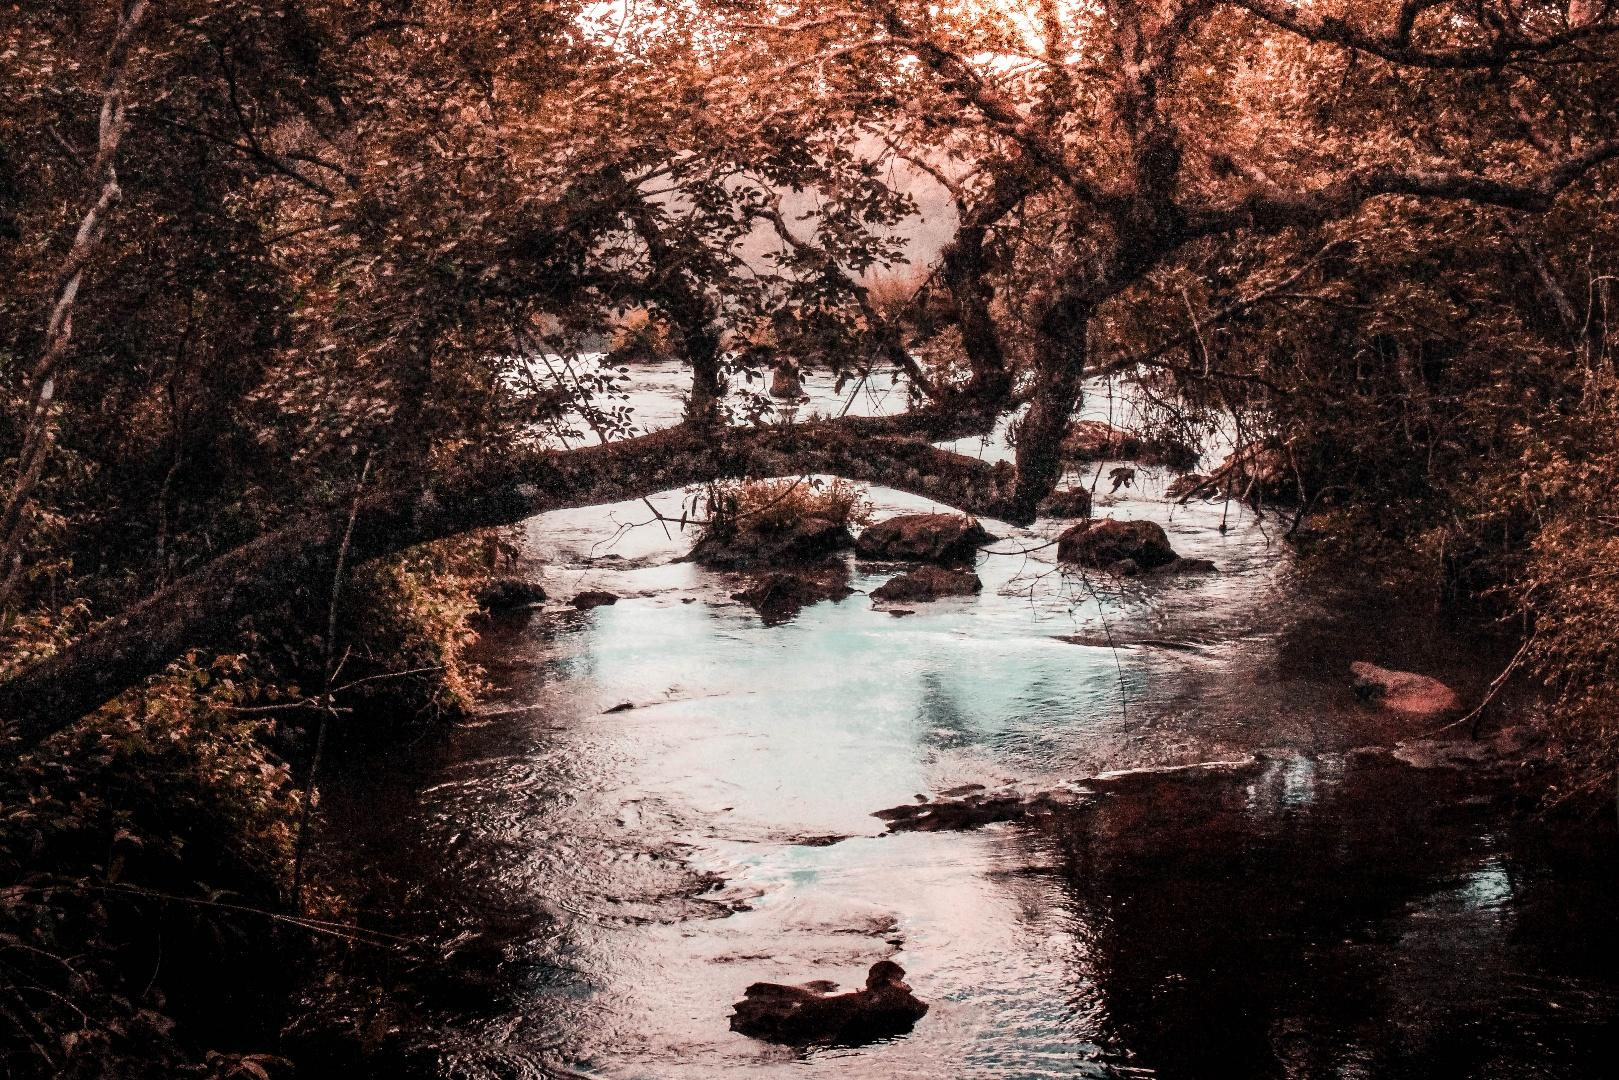battery: (1527, 392, 1619, 834)
